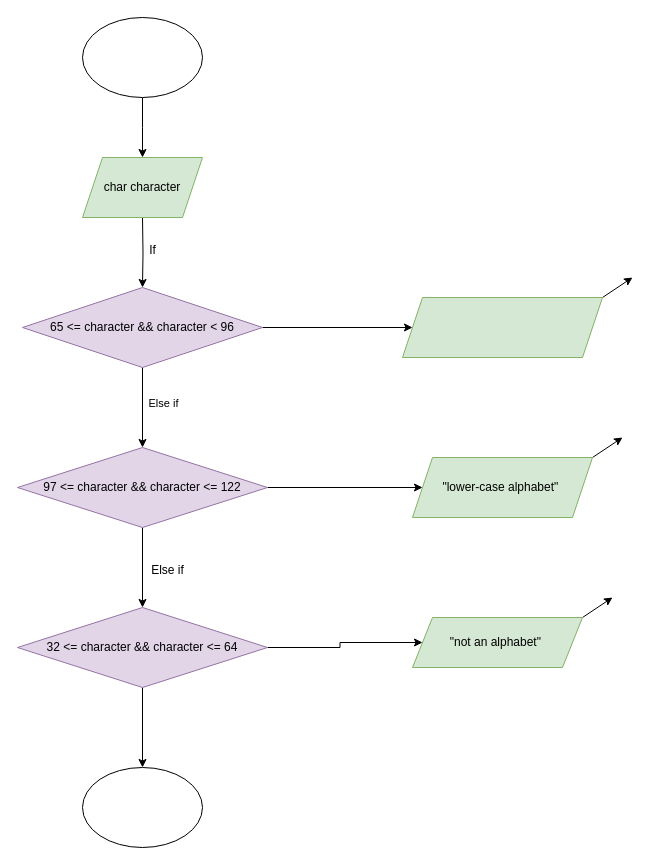
Some shapes in this 658 by 865 pixel diagram are drawn without their labels. Here are the shapes that lost their labels. From the top down, the centre of each, then its label:
(142,57): Inicio
(502,327): "upper-case alphabet"
(142,807): Final
